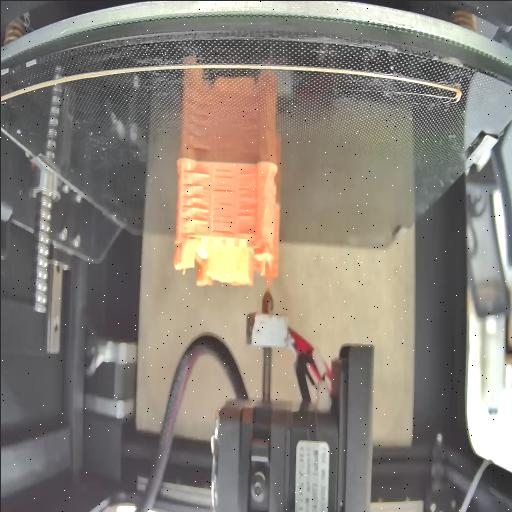cracks: (180, 170, 210, 226), (214, 170, 234, 220), (238, 170, 258, 218), (212, 226, 234, 236), (236, 226, 254, 234)
